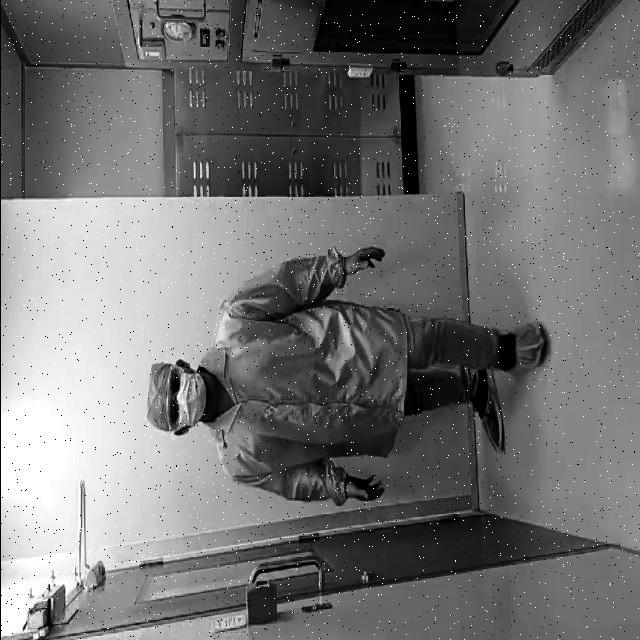apron: (339, 242, 392, 280), (340, 476, 388, 506)
